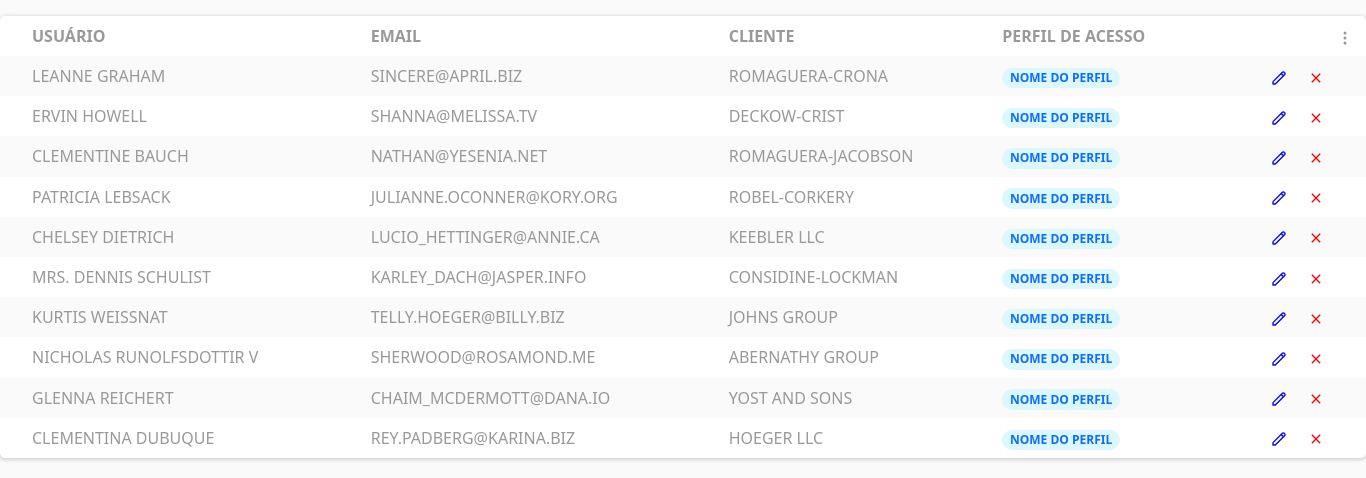
Test: hides/show "Usuário" column
Click the icon with test id "Dropdown.Toggle".
click(1345, 38)  # box [1337, 30, 1353, 46]
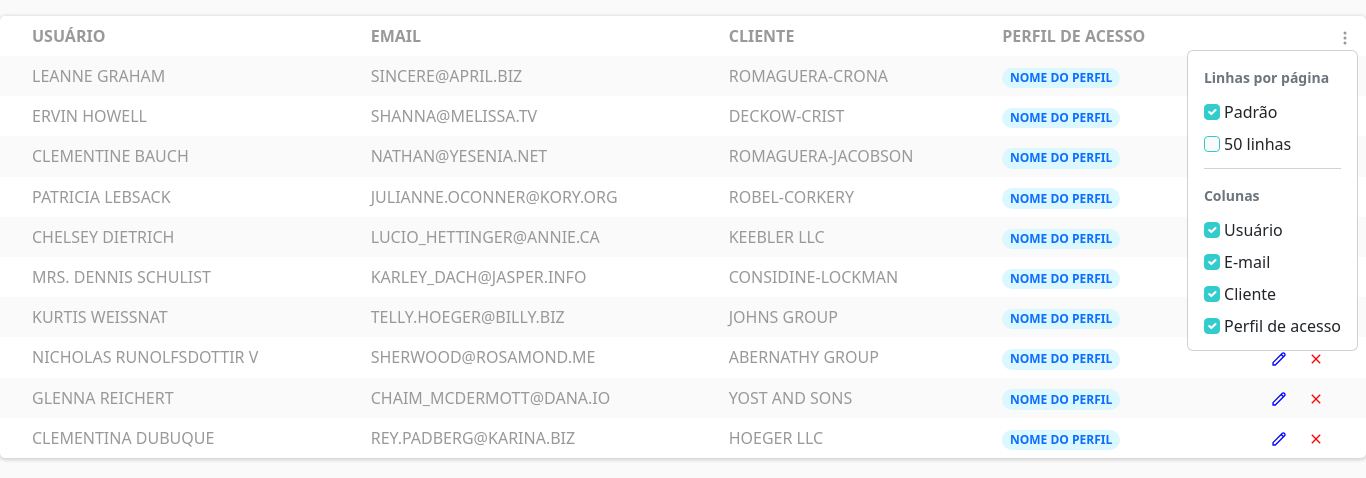
expect the column heading with test id "UserCol" is shown: met, box [0, 16, 363, 56]
Click the button with test id "Dropdown.Item.UserCol".
click(1243, 230)  # box [1204, 219, 1283, 241]
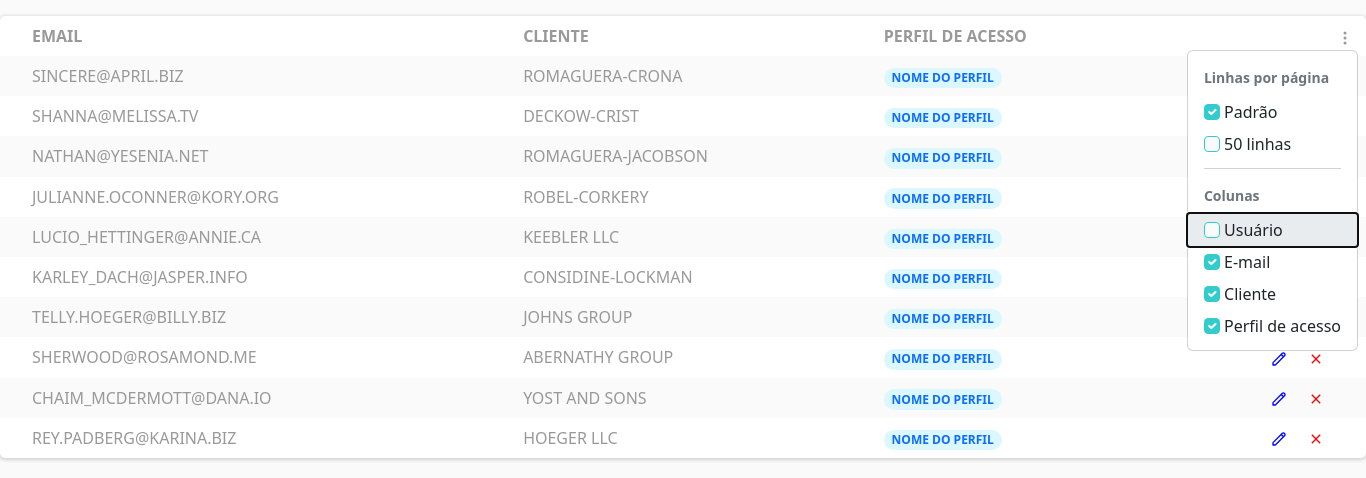
expect the column heading with test id "UserCol" is gone: met
Click the button with test id "Dropdown.Item.UserCol".
click(1272, 230)  # box [1188, 214, 1357, 246]
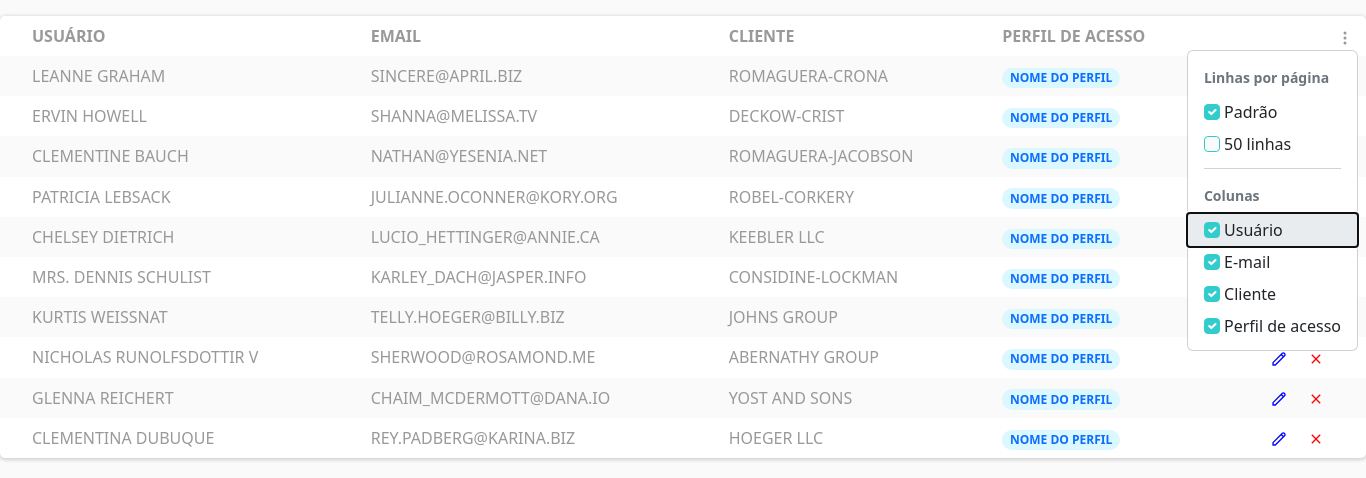
expect the column heading with test id "UserCol" is shown: met, box [0, 16, 363, 56]
